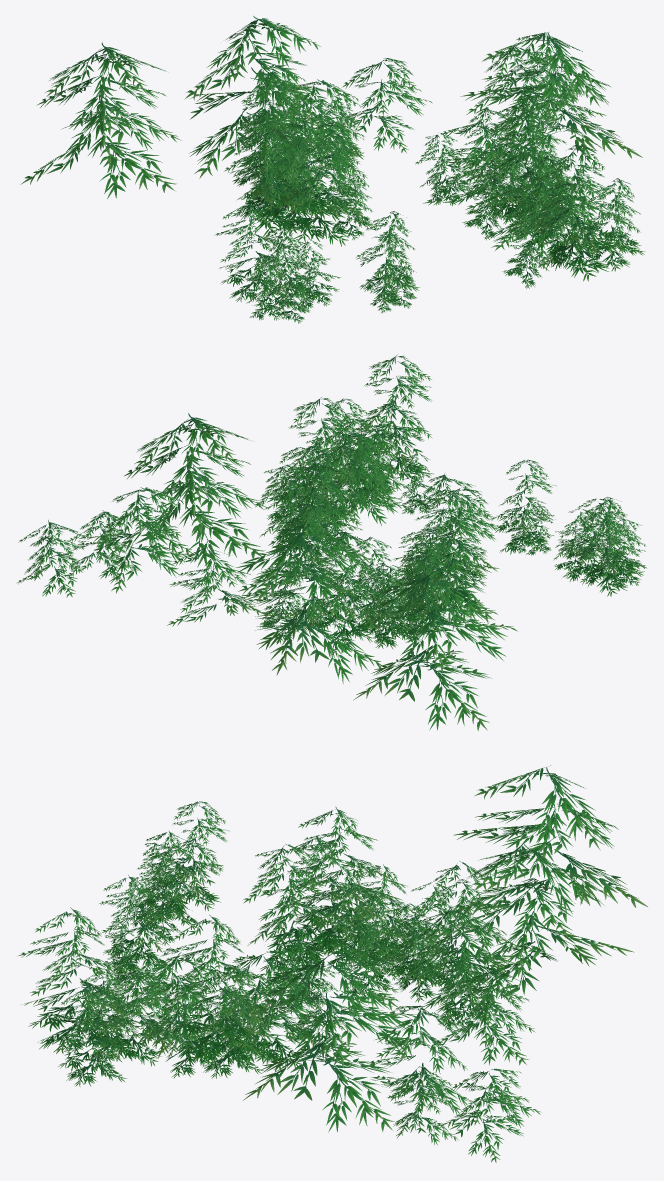
The model's file is Area_07_16.fbx.
The picture shows the model from 3 angles, top to bottom: view 1: azimuth 30°, elevation 25°; view 2: azimuth 150°, elevation 25°; view 3: azimuth 270°, elevation 25°; orthographic projection. The views are drawn at different scales.
Parts seen in each view (by area): view 1: Area_07_16; view 2: Area_07_16; view 3: Area_07_16.
Part boxes in pixels (box(x1,y1,x2,y2)): Area_07_16: box(20, 16, 644, 323); Area_07_16: box(16, 355, 646, 730); Area_07_16: box(17, 765, 647, 1162).
Bounding box in the file's own units: 7359 × 1994 × 7037.
